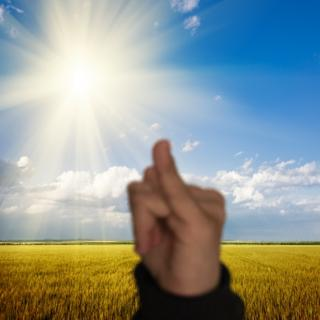HAVE: (118, 133, 244, 298)
